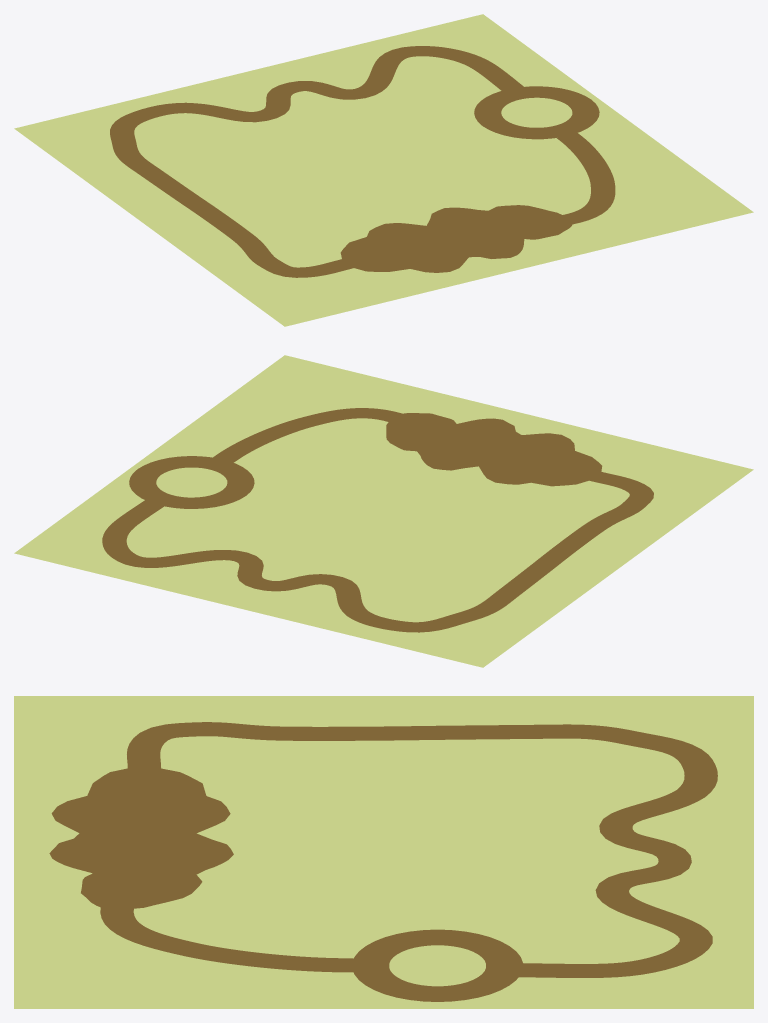
Rendered from race_track_6a.fbx.
3 renders of one model, top to bottom at view 1: azimuth 30°, elevation 25°; view 2: azimuth 150°, elevation 25°; view 3: azimuth 270°, elevation 25°, orthographic. The views are drawn at different scales.
Visible parts, largest first — view 1: RaceTrack_Offroad, RaceTrack_Ground.001, RaceTrack_WideArea, RaceTrack_Circle, RaceTrack_Ground.002; view 2: RaceTrack_Offroad, RaceTrack_Ground.001, RaceTrack_WideArea, RaceTrack_Circle, RaceTrack_Ground.002; view 3: RaceTrack_Offroad, RaceTrack_Ground.001, RaceTrack_WideArea, RaceTrack_Circle, RaceTrack_Ground.002.
Boxes of the visible parts, x1,y1,x2,y2 form: RaceTrack_Offroad: (14,14,753,326); RaceTrack_Ground.001: (110,46,524,277); RaceTrack_WideArea: (340,205,572,272); RaceTrack_Circle: (474,86,599,139); RaceTrack_Ground.002: (557,133,615,224); RaceTrack_Offroad: (14,355,753,667); RaceTrack_Ground.001: (102,472,653,632); RaceTrack_WideArea: (386,413,602,486); RaceTrack_Circle: (129,456,254,508); RaceTrack_Ground.002: (213,408,402,462); RaceTrack_Offroad: (14,696,753,1008); RaceTrack_Ground.001: (127,722,717,977); RaceTrack_WideArea: (49,768,233,908); RaceTrack_Circle: (352,929,522,1001); RaceTrack_Ground.002: (100,907,353,972).
Bounding box in the file's own units: 3991 × 3991 × 10.
